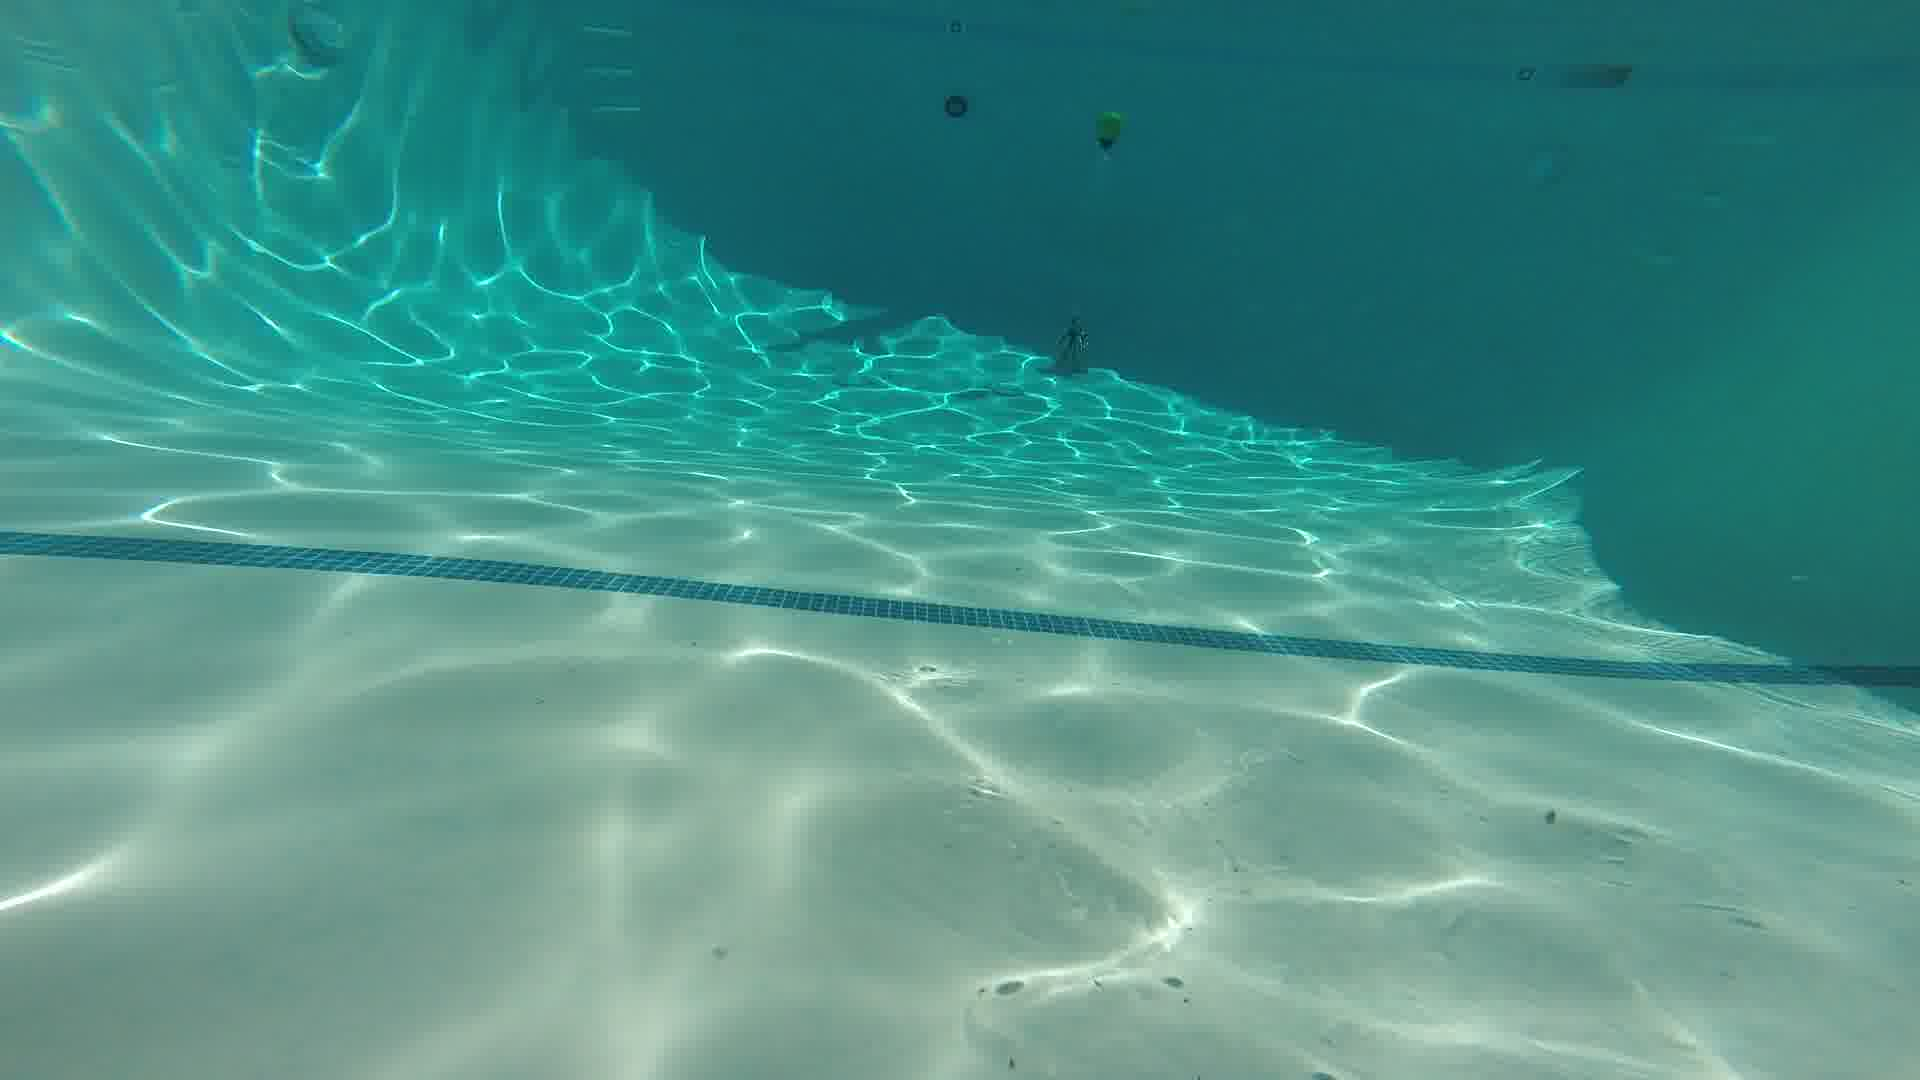yellow_buoy: (1091, 102, 1125, 162)
